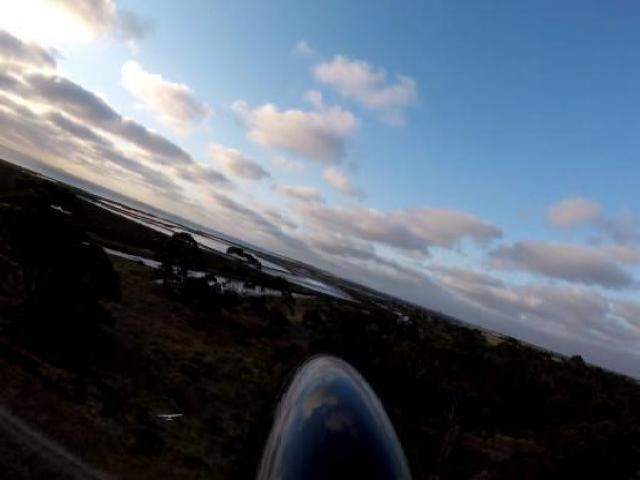uav: (153, 405, 187, 429)
